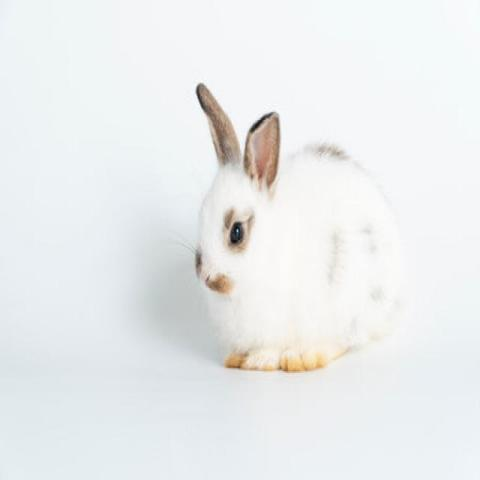small_animal: (186, 81, 406, 374)
